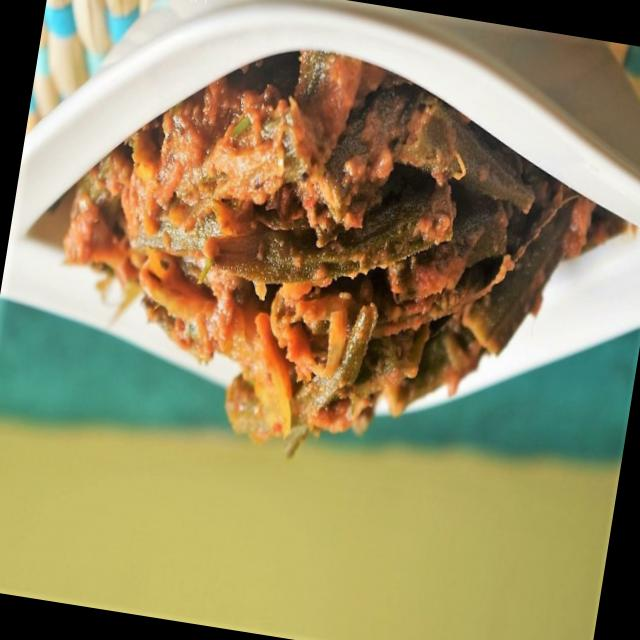BhindiMasala: (37, 15, 640, 496)
